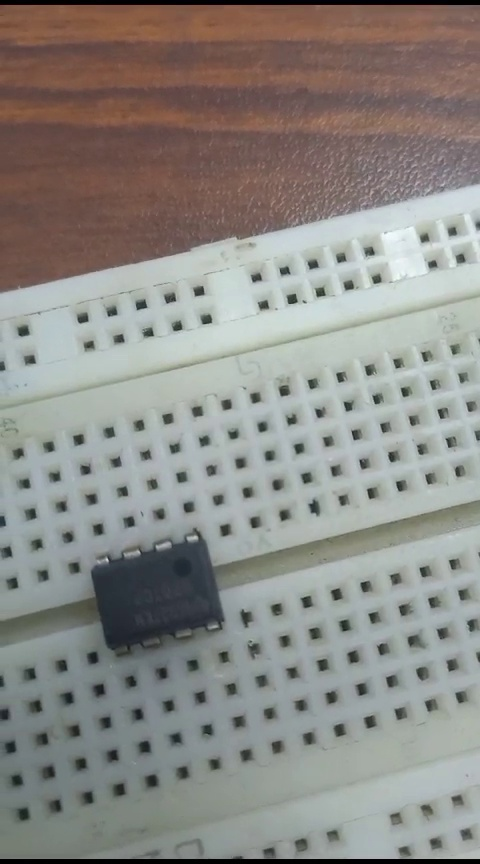IC: (83, 523, 231, 652)
